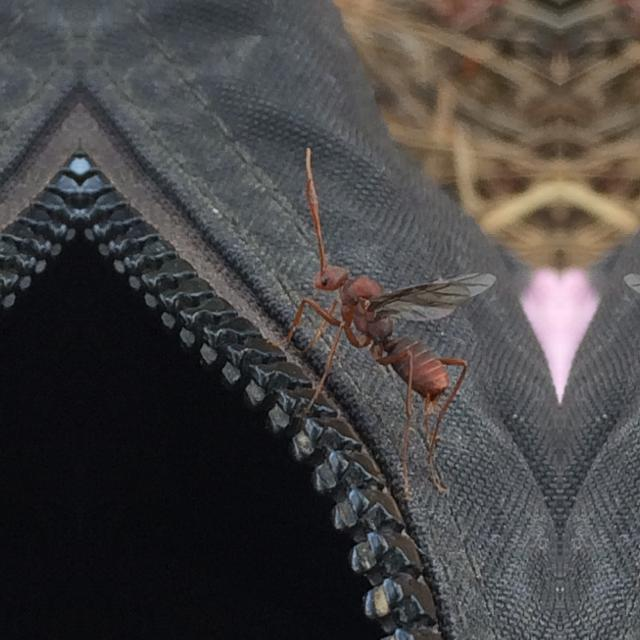Cataglyphis: (286, 218, 492, 444)
